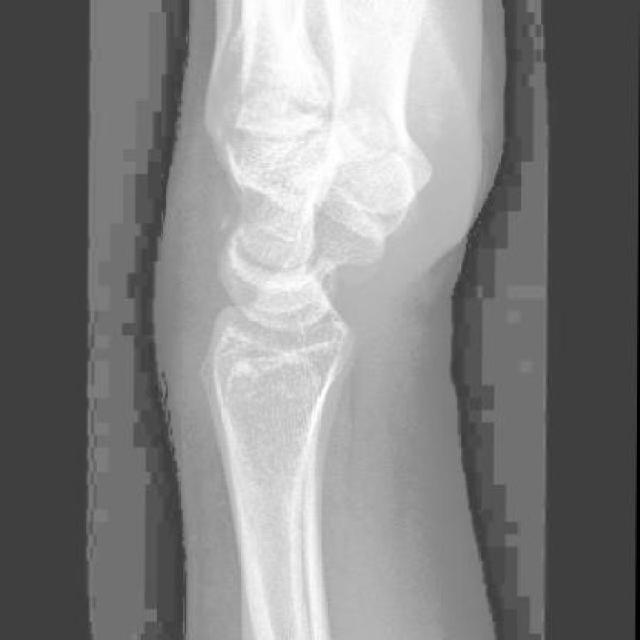Fracture: (214, 209, 248, 242)
